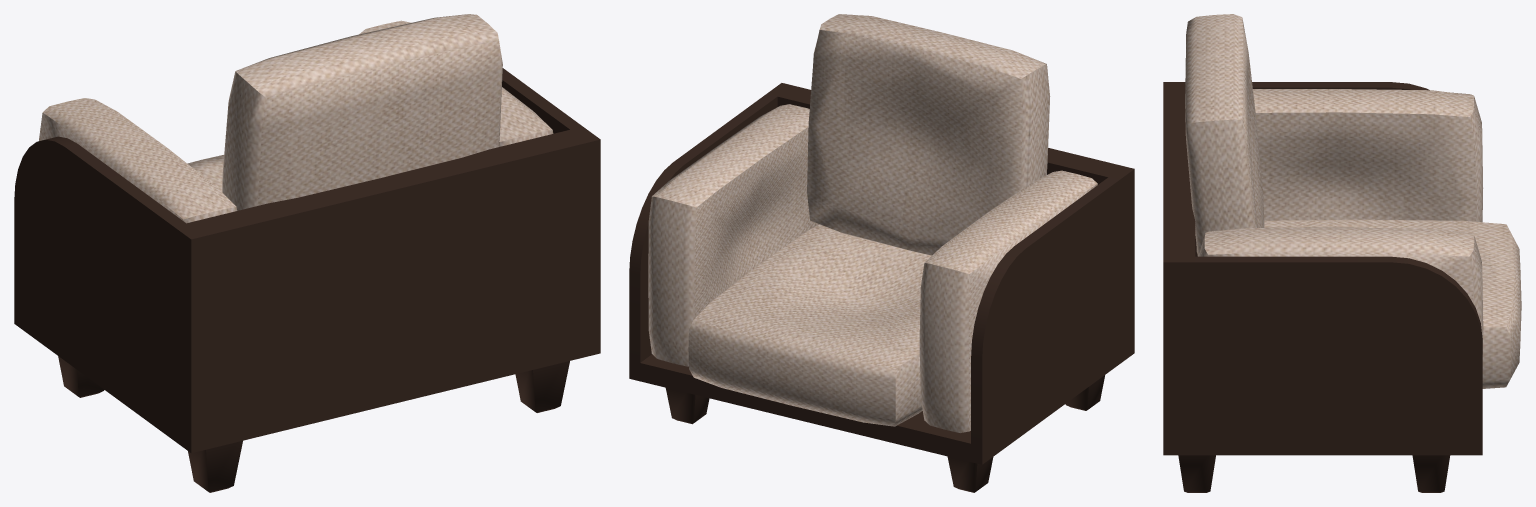
Rendered from furniture_seating_210059.glb.
3 renders of one model, left to right at view 1: azimuth 30°, elevation 25°; view 2: azimuth 150°, elevation 25°; view 3: azimuth 270°, elevation 25°, orthographic. The views are drawn at different scales.
Parts seen in each view (by area): view 1: furniture_seating_210059; view 2: furniture_seating_210059; view 3: furniture_seating_210059.
Part boxes in pixels (box(x1,y1,x2,y2)): furniture_seating_210059: box(14, 14, 600, 492); furniture_seating_210059: box(629, 14, 1134, 492); furniture_seating_210059: box(1163, 14, 1521, 492).
Size of the model in its own units: 0.9557 by 0.8823 by 0.8029.
Materials: 1 (1 with a texture image).
